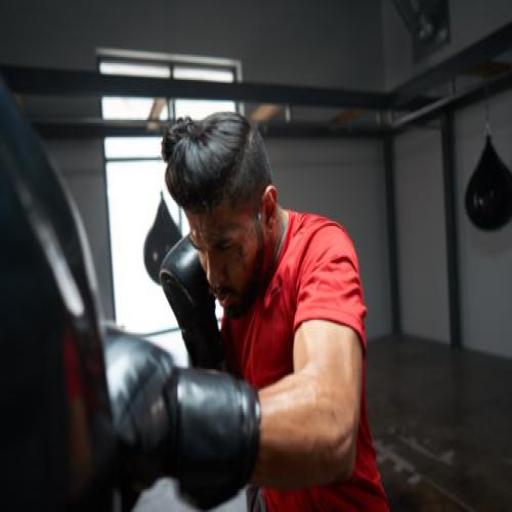boxing: (44, 96, 414, 512)
